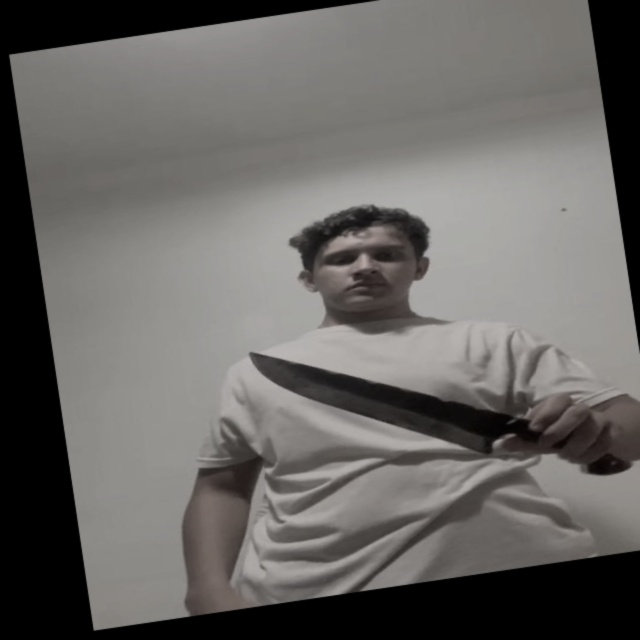Sharp-Object: (250, 314, 526, 488)
